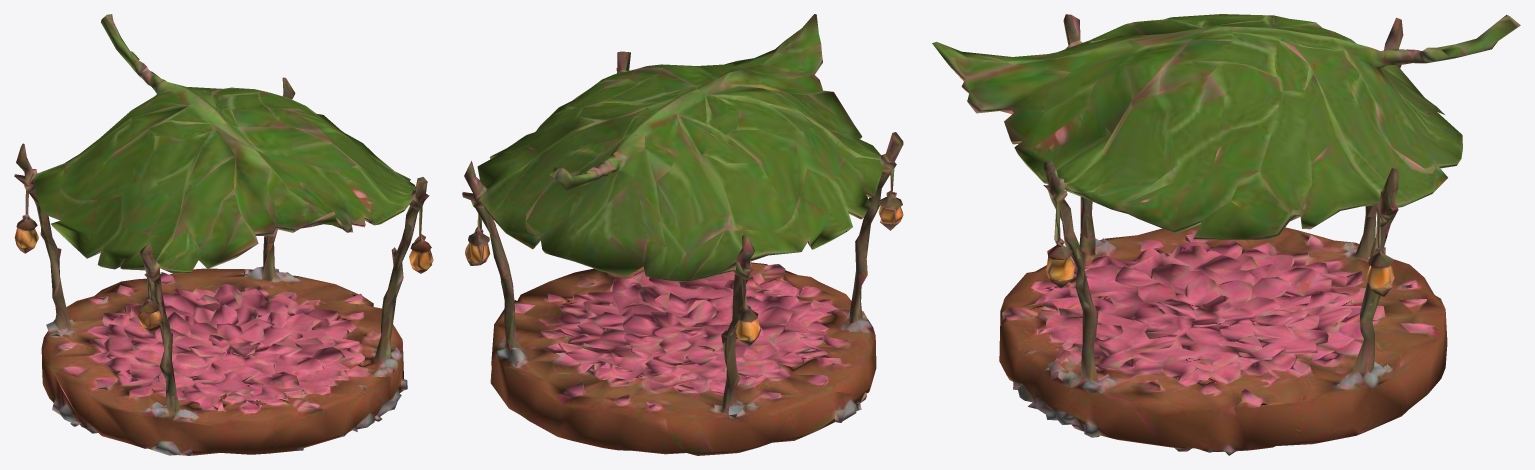
Rendered from taht.glb.
The picture shows the model from 3 angles, left to right: view 1: azimuth 30°, elevation 25°; view 2: azimuth 150°, elevation 25°; view 3: azimuth 270°, elevation 25°; orthographic projection. The views are drawn at different scales.
Visible parts, largest first — view 1: prop; view 2: prop; view 3: prop.
Boxes of the visible parts, left/top/right/bottom form: prop: left=14, top=14, right=433, bottom=455; prop: left=462, top=14, right=903, bottom=455; prop: left=932, top=14, right=1520, bottom=455.
Bounding box in the file's own units: 1.49 × 1.24 × 1.91.
Materials: 1 (1 with a texture image).
